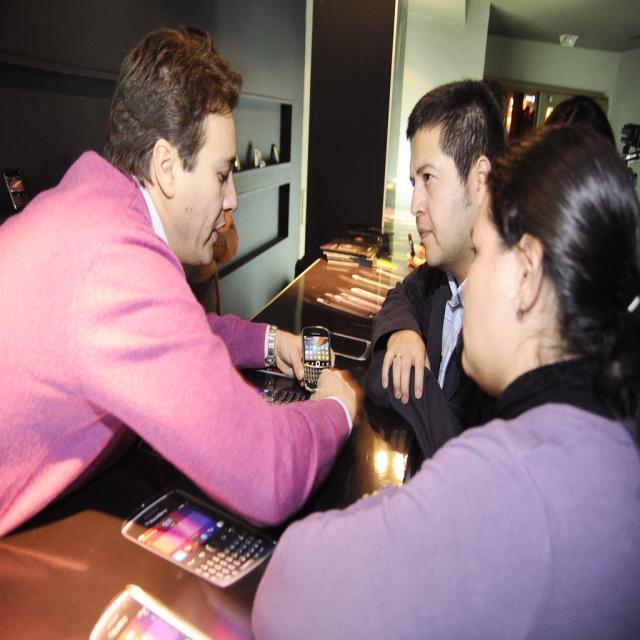Mobile-phone: (106, 471, 275, 579), (86, 581, 215, 639), (301, 324, 331, 392)
